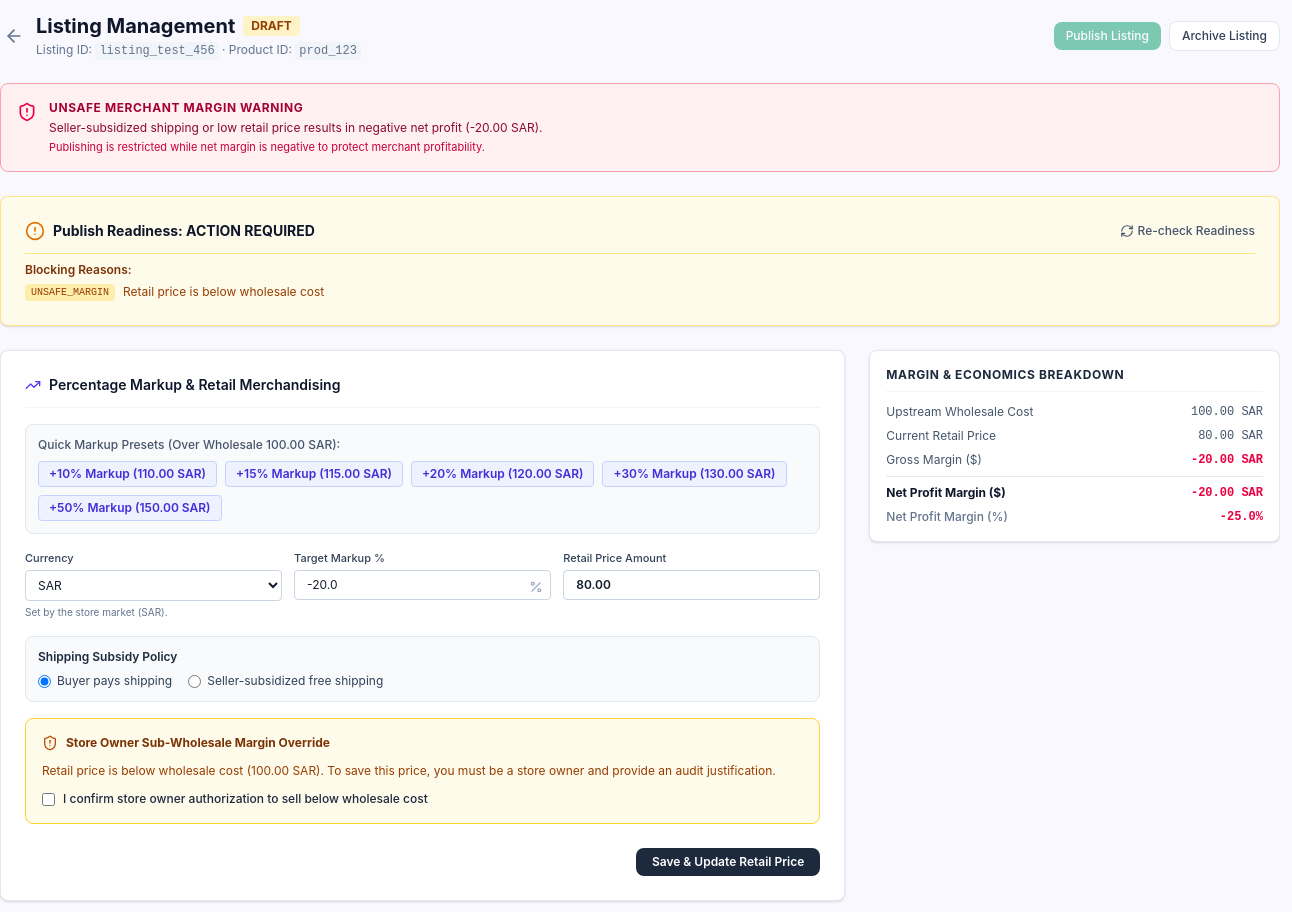
Scenario: Margin Guardrails & Atomic Imports (T035-T038) › Listing Detail Page Margin Guardrail & Owner Override › displays sub-wholesale override panel and blocks submit when retail < wholesale without authorization
Expected: the element with test id "sub-wholesale-override-panel" is shown, [25,718,820,824]
Expected: the text "Store Owner Sub-Wholesale Margin Override" is shown, [42,736,330,752]
Note: Submit without checking override
Step 1. Click the button "Save & Update Retail Price" → {"x": 728, "y": 862}, box [636,848,820,876]
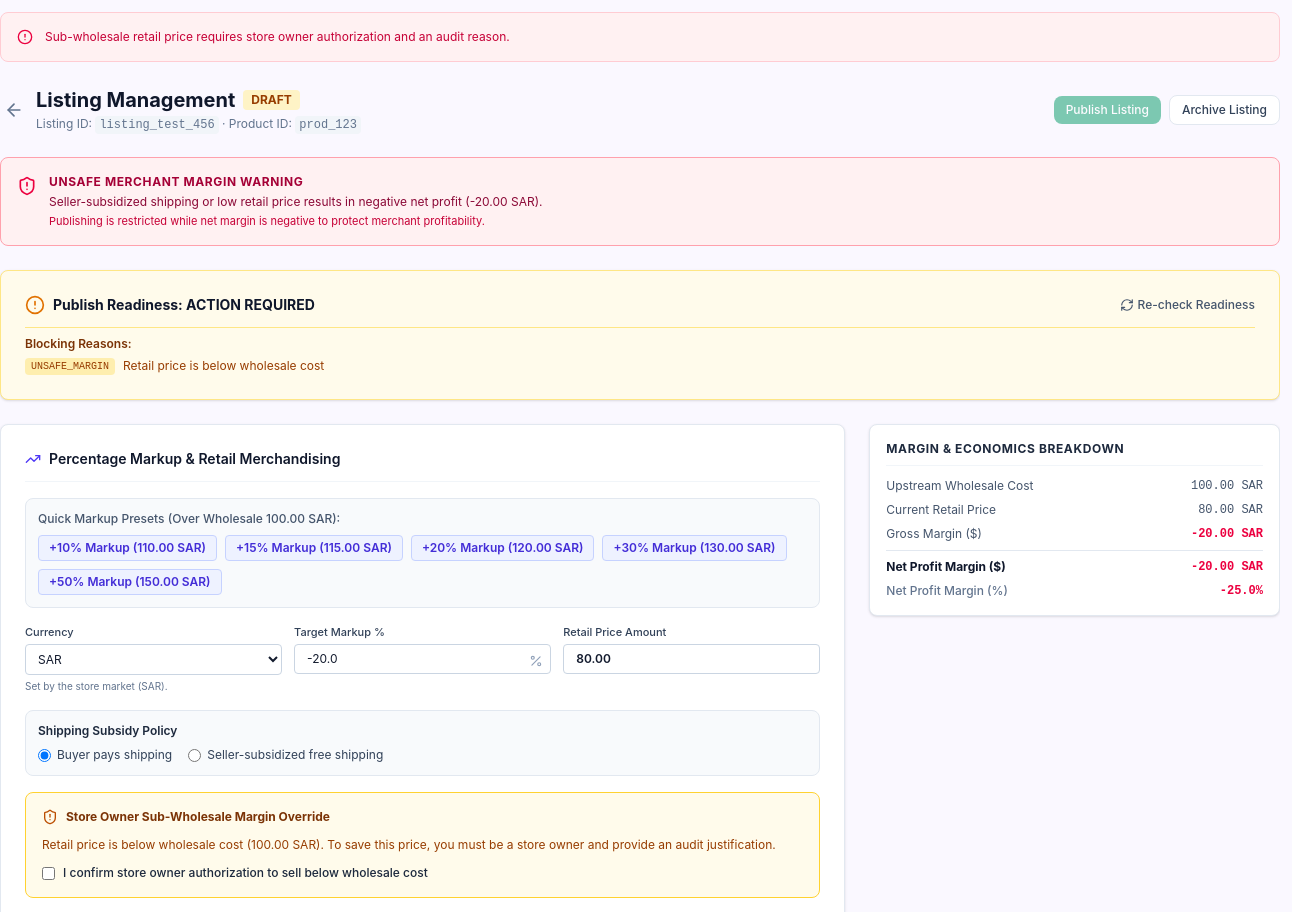
Expected: the text "Sub-wholesale retail price requires store owner authorization and an audit reason" is shown, [45,29,510,44]
